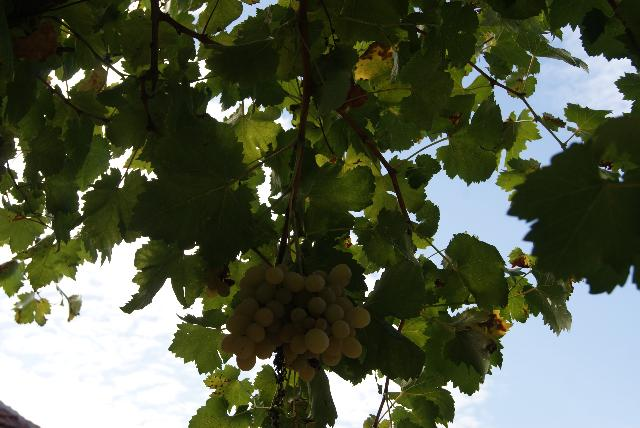grapes: (280, 264, 370, 366), (222, 265, 305, 370)
